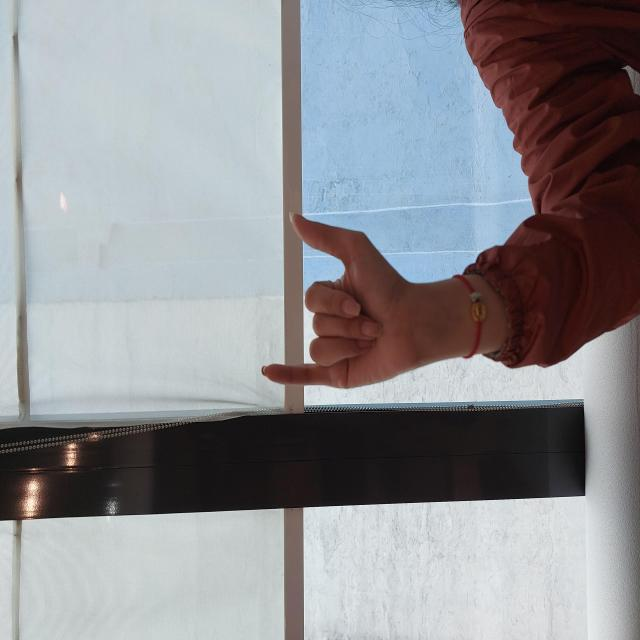Y: (247, 258, 433, 426)
